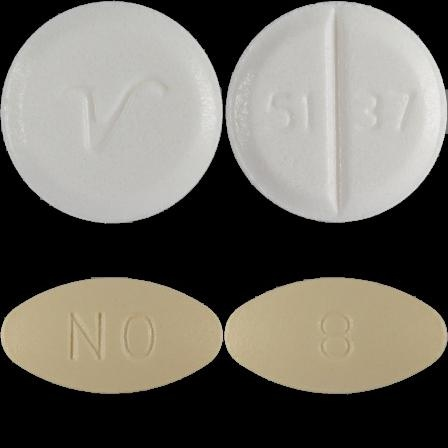75921-438: (0, 0, 224, 224)
